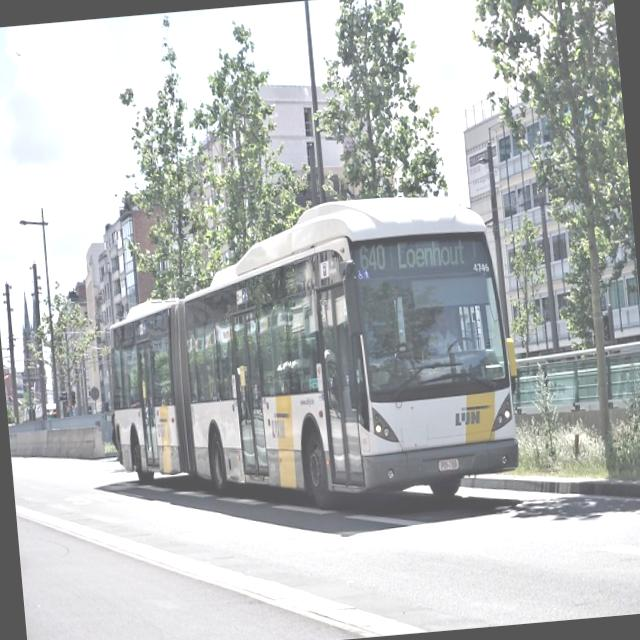bus-number: (358, 242, 386, 272)
